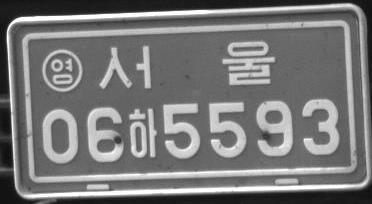0: (40, 106, 79, 164)
3: (301, 97, 340, 155)
5: (207, 101, 247, 159), (162, 101, 201, 159)
6: (85, 105, 124, 163)
9: (255, 98, 294, 157)
서울_D: (99, 39, 276, 91)
영: (41, 48, 83, 92)
하: (128, 106, 158, 157)
